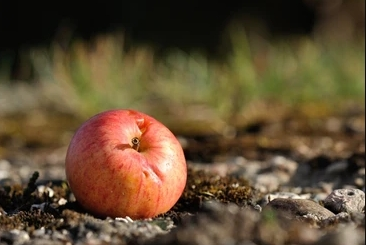apple/: (52, 103, 212, 229)
